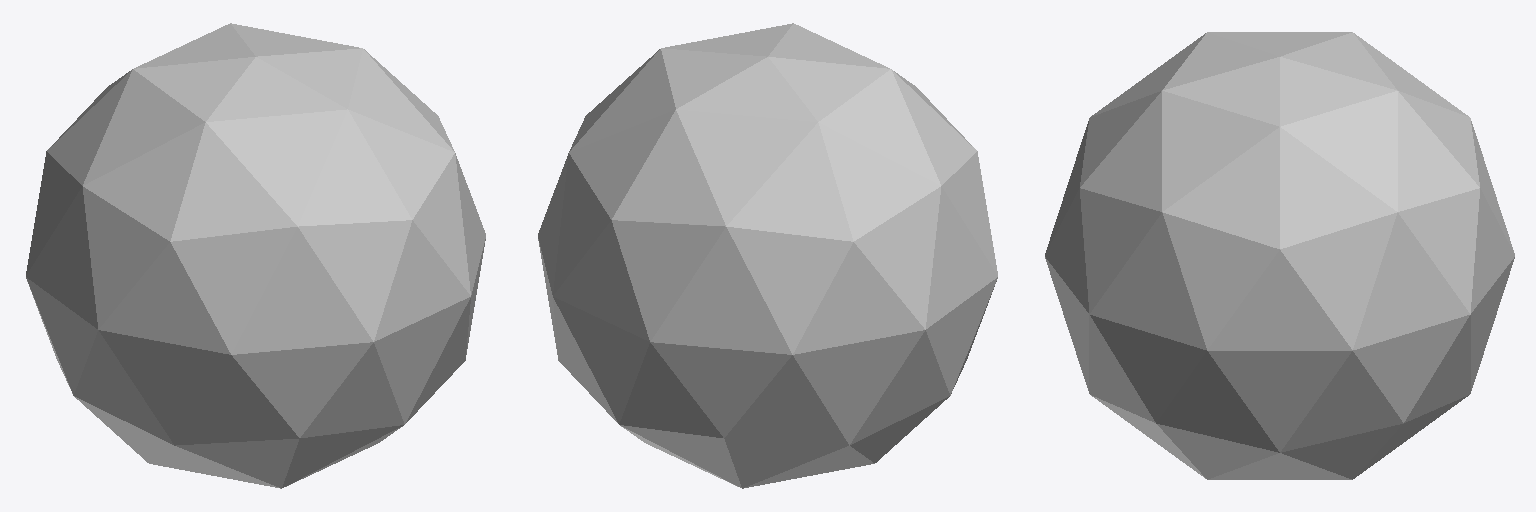
File: ball.obj
The picture shows the model from 3 angles: view 1: azimuth 30°, elevation 25°; view 2: azimuth 150°, elevation 25°; view 3: azimuth 270°, elevation 25°; orthographic projection.
Bounding box in the file's own units: 8.14 × 7.99 × 8.55.